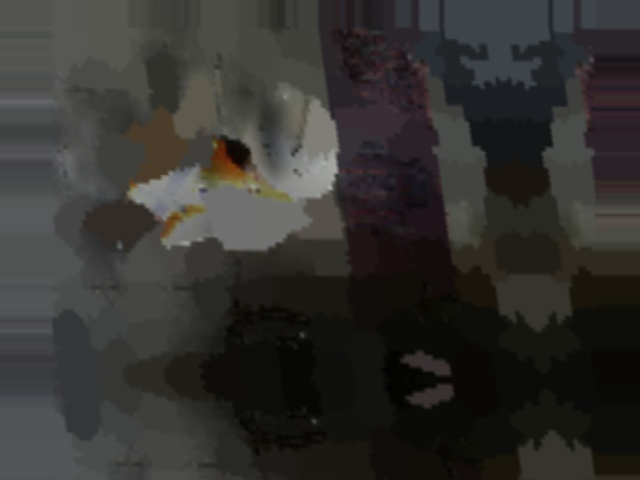three: (289, 144, 328, 178)
